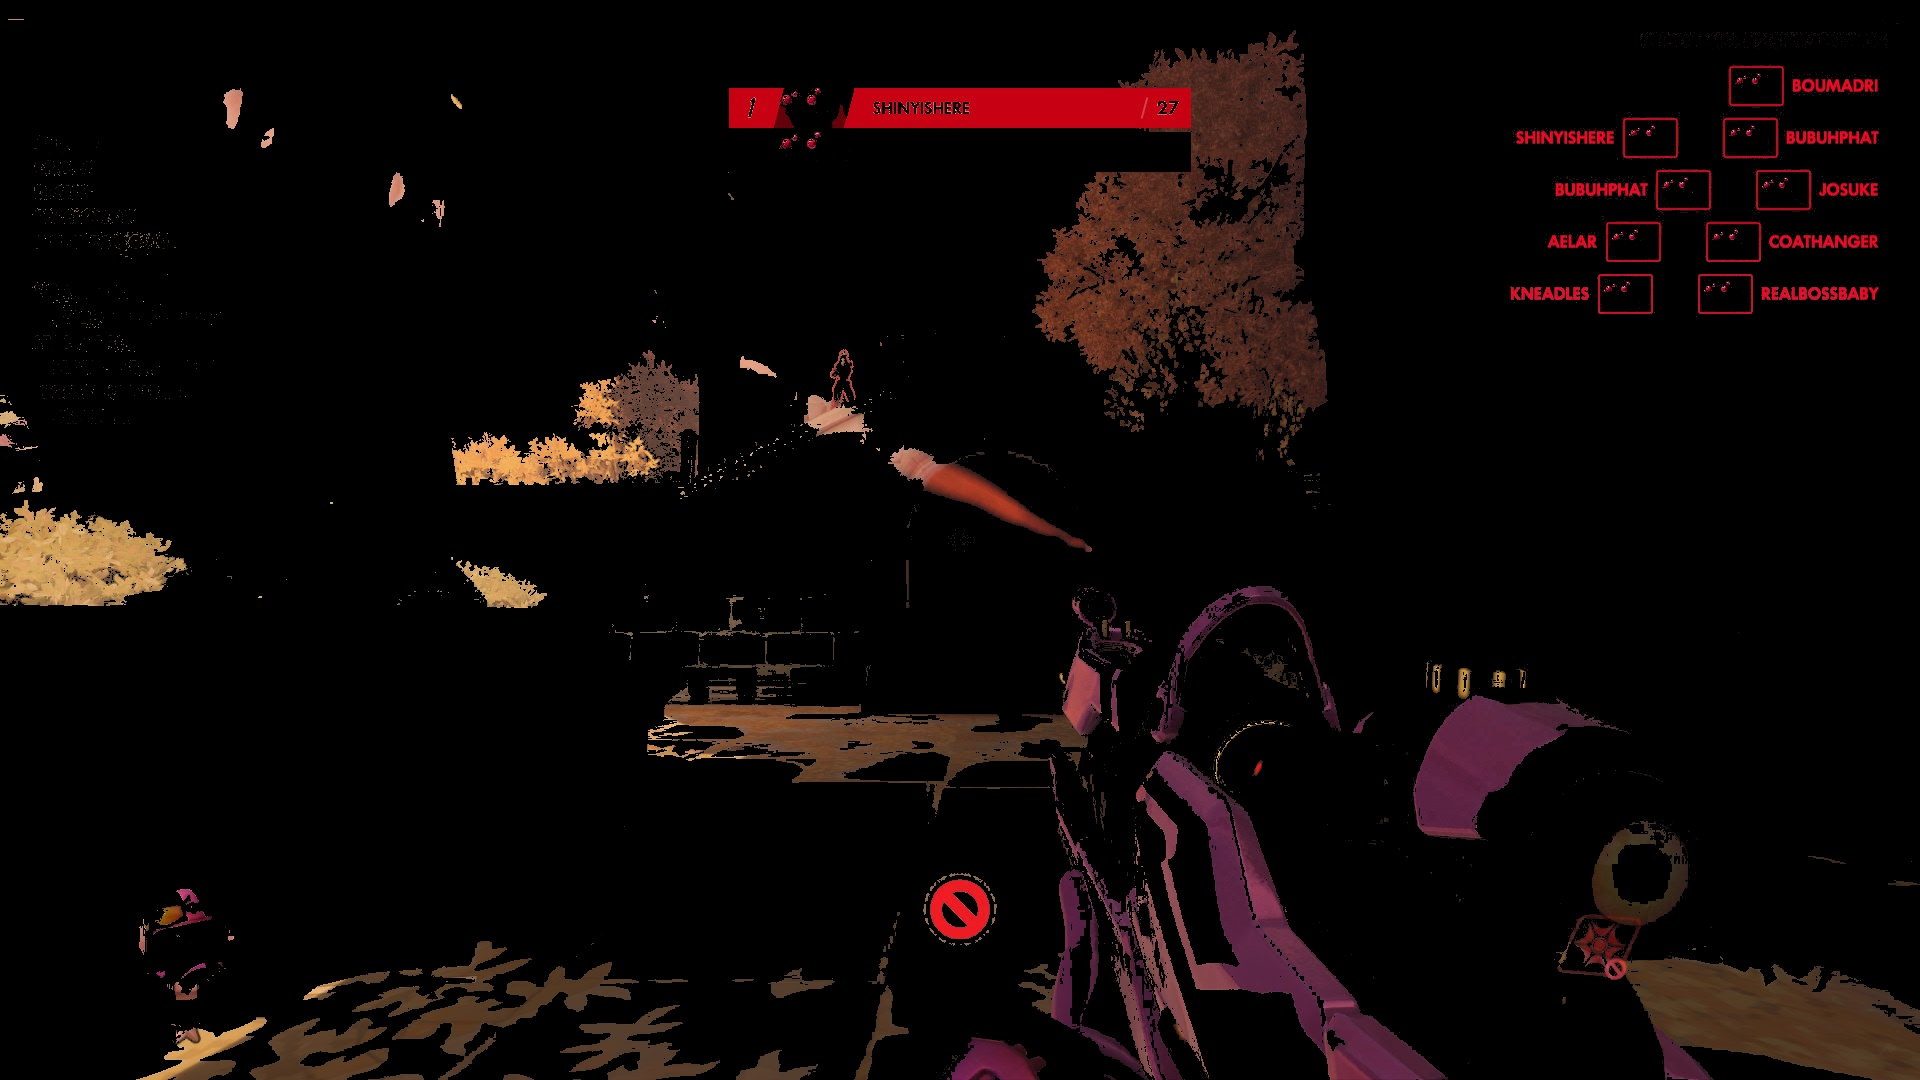widowmaker: (829, 348, 855, 411)
